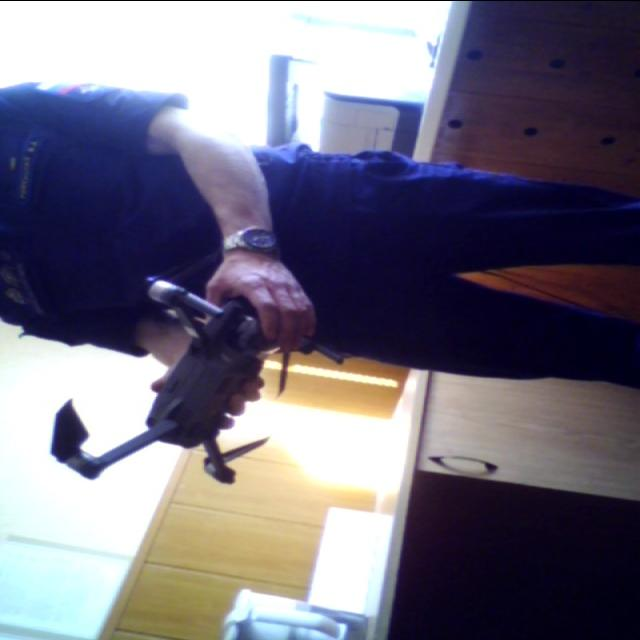drone: (39, 253, 345, 503)
